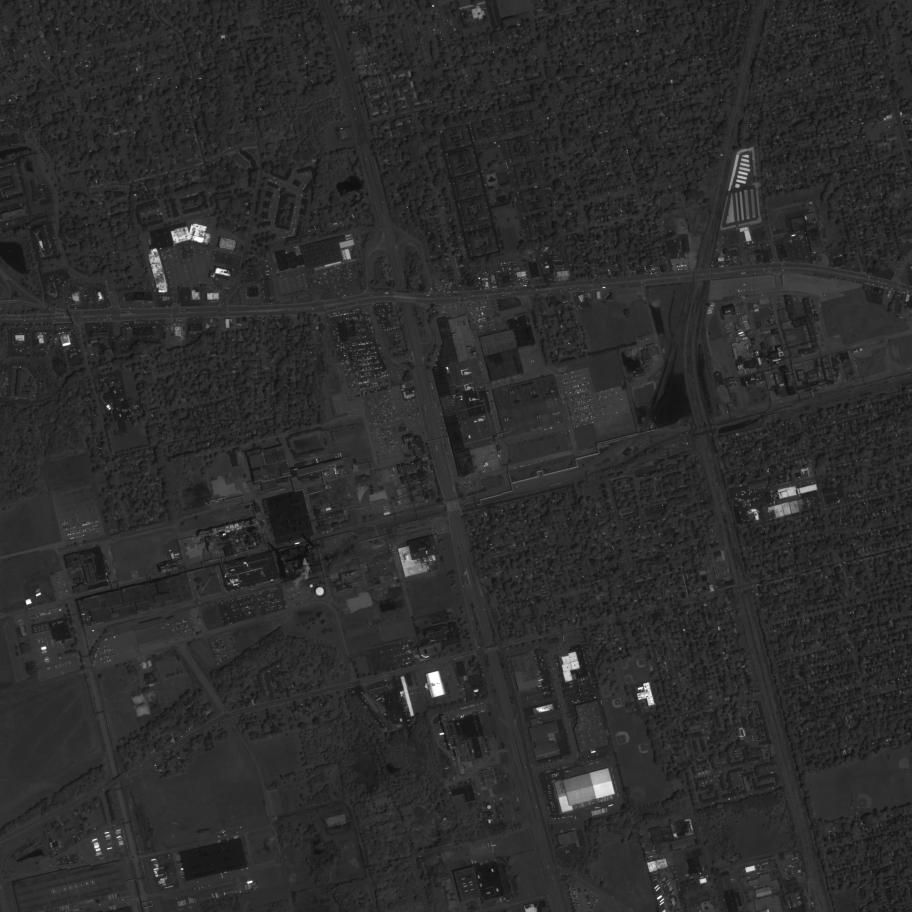storage-tank: (316, 586, 325, 596), (488, 805, 491, 809), (310, 585, 313, 587)
